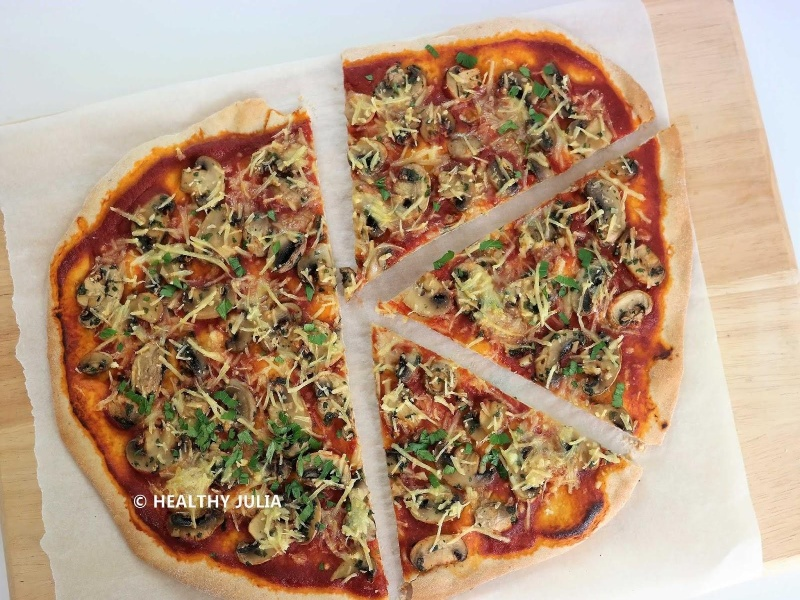champignon: (180, 151, 230, 212), (406, 530, 471, 573), (393, 159, 436, 216), (625, 241, 669, 289), (607, 287, 656, 328), (70, 348, 121, 382)
